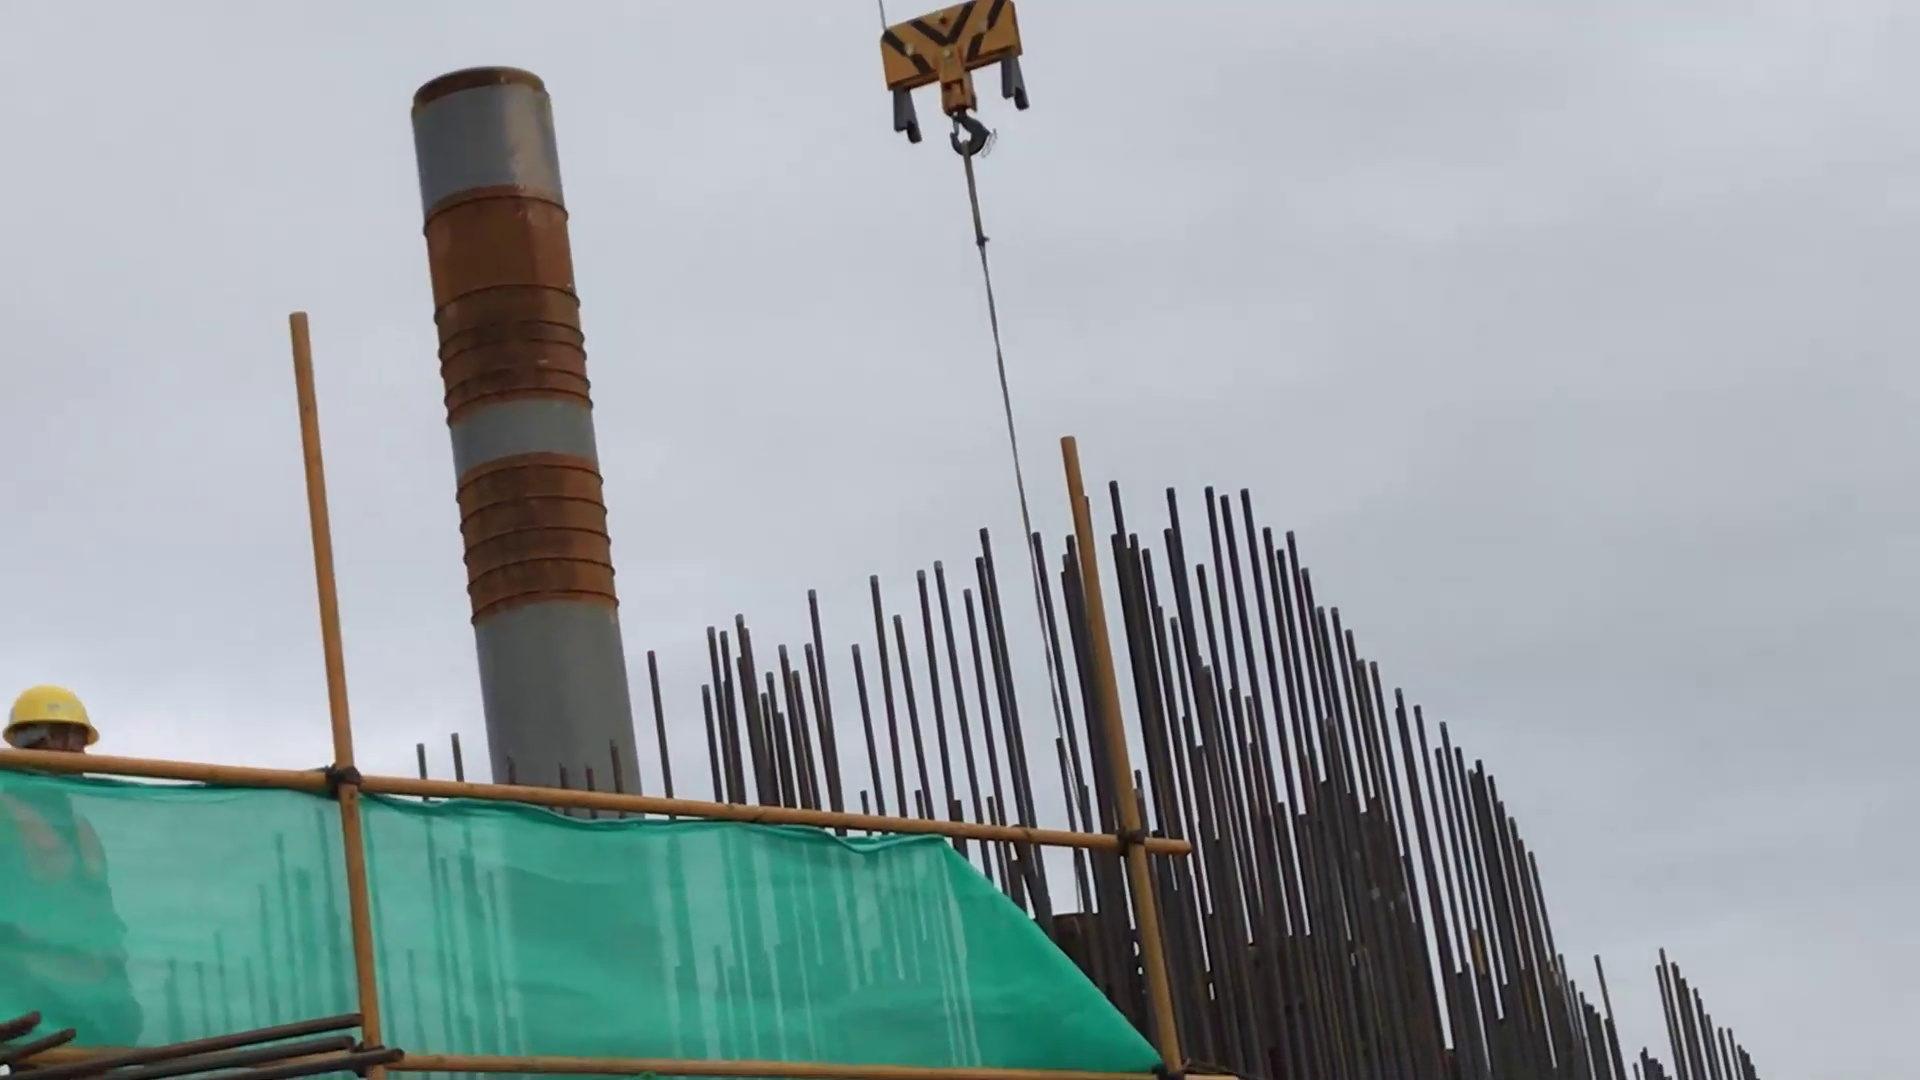helmet: (5, 679, 102, 734)
hook: (869, 12, 1048, 161)
person: (2, 667, 132, 1045)
